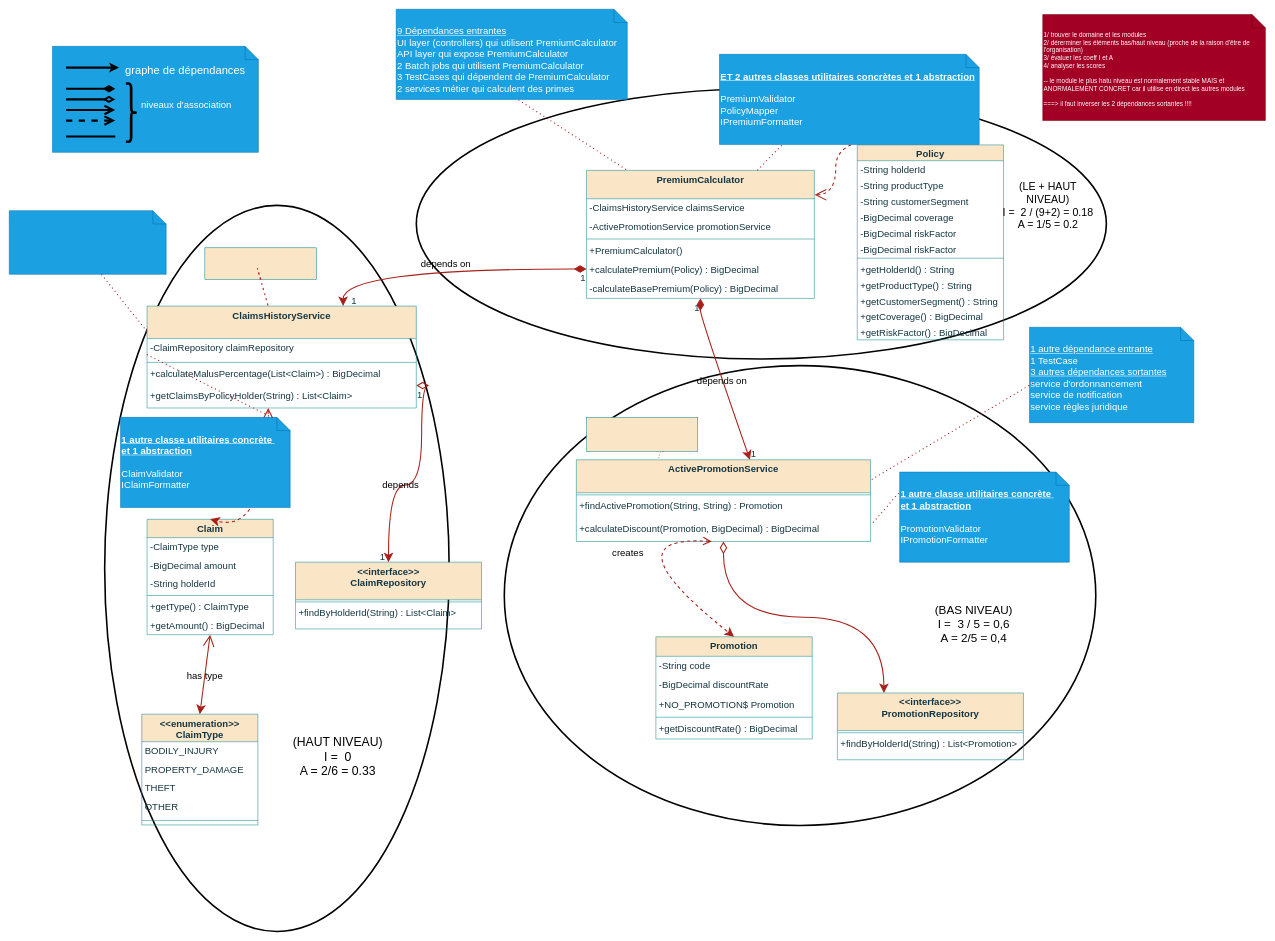
The diagram is 1275 pixels wide and 941 high, and some of its shapes have lost their labels. Each missing label, with the centre of its shape:
"2 autres dépendances entrantes 1 TestCase 1 Service de Report" goes at [87,242].
"Change chaque semaine (promos, campagnes)" goes at [642,434].
"Change tous les 3 mois (nouvelles lois, règles)" goes at [260,263].
